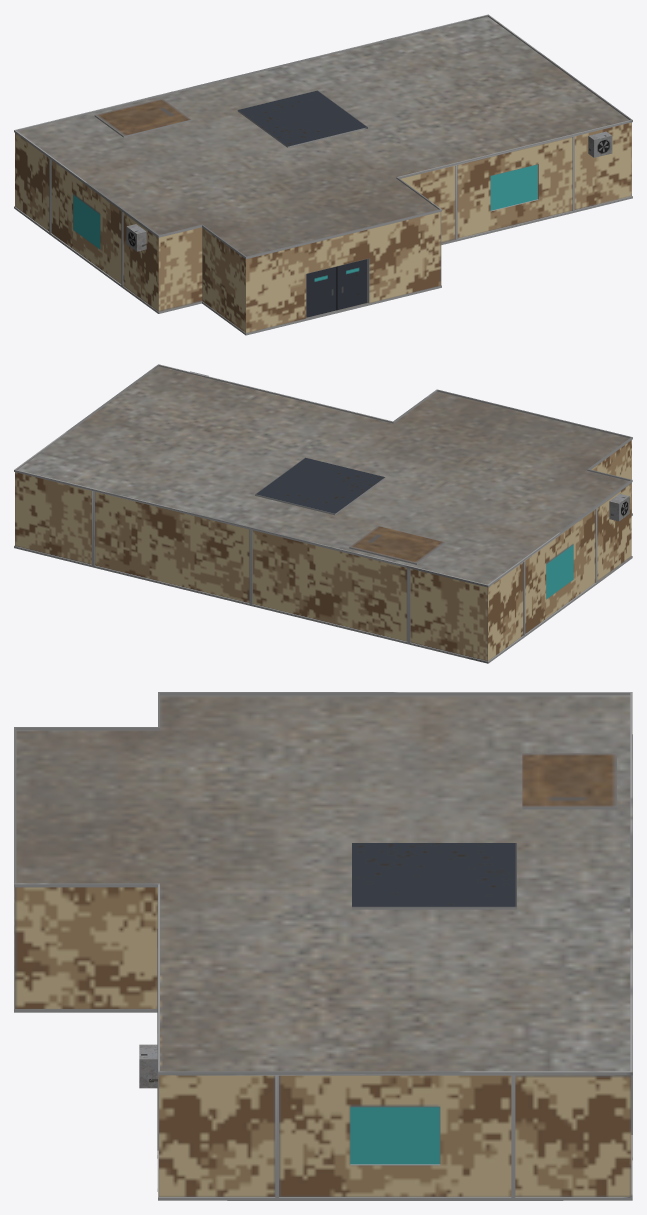
File: main.glb
3 views of the same model, one above another, from view 1: azimuth 30°, elevation 25°; view 2: azimuth 150°, elevation 25°; view 3: azimuth 270°, elevation 25° (orthographic). The views are drawn at different scales.
Visible parts, largest first — view 1: Box001; view 2: Box001; view 3: Box001.
Part boxes in pixels (x1,y1,x2,y2): Box001: (14, 14, 632, 335); Box001: (14, 364, 632, 663); Box001: (14, 692, 632, 1200).
Bounding box in the file's own units: 4.94 × 0.7623 × 3.33.
1 material, 1 textured.
